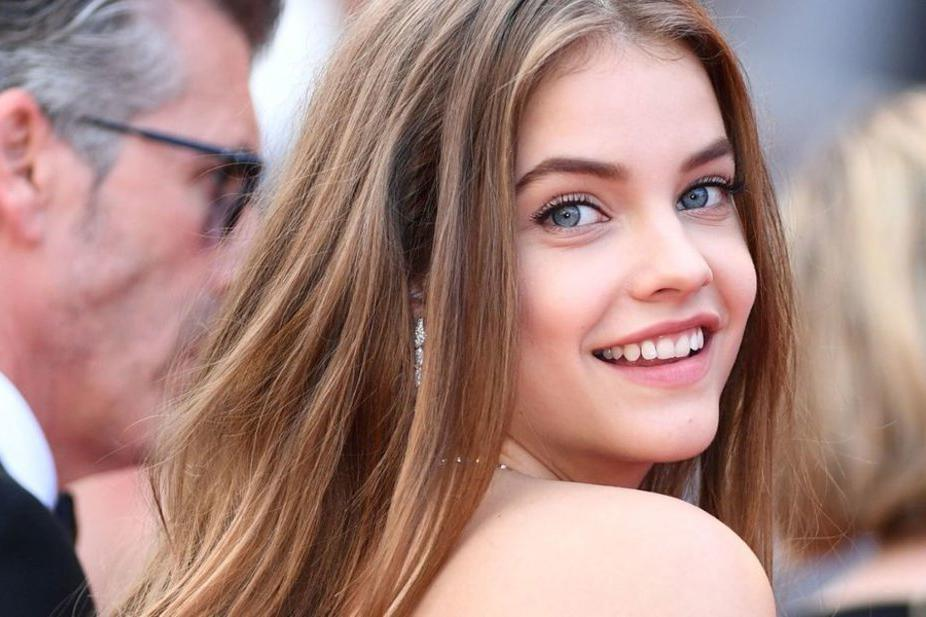Sober: (519, 67, 744, 430)
